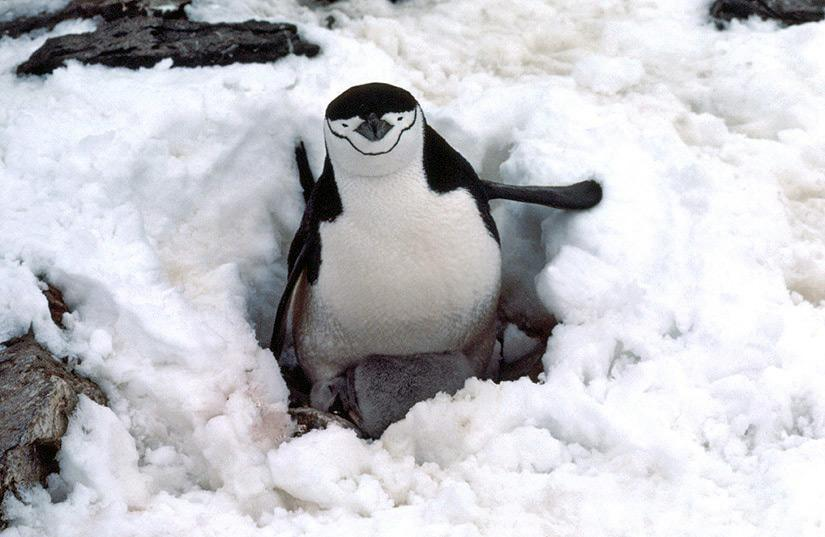Penguin: (269, 81, 600, 437)
